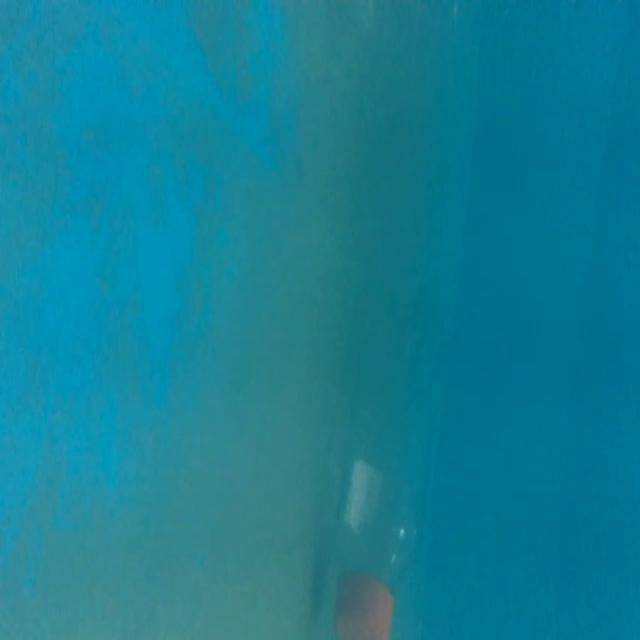plastic bottle: (329, 267, 429, 640)
